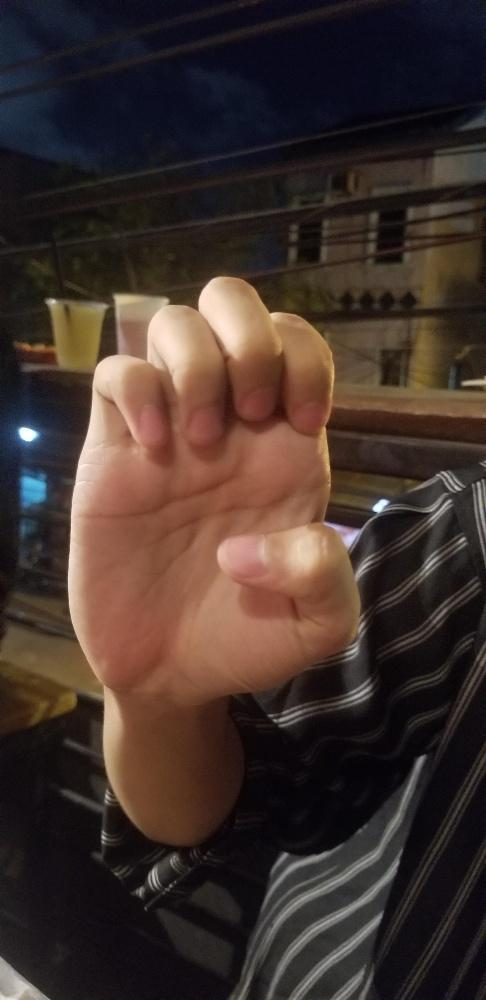e: (65, 270, 365, 705)
